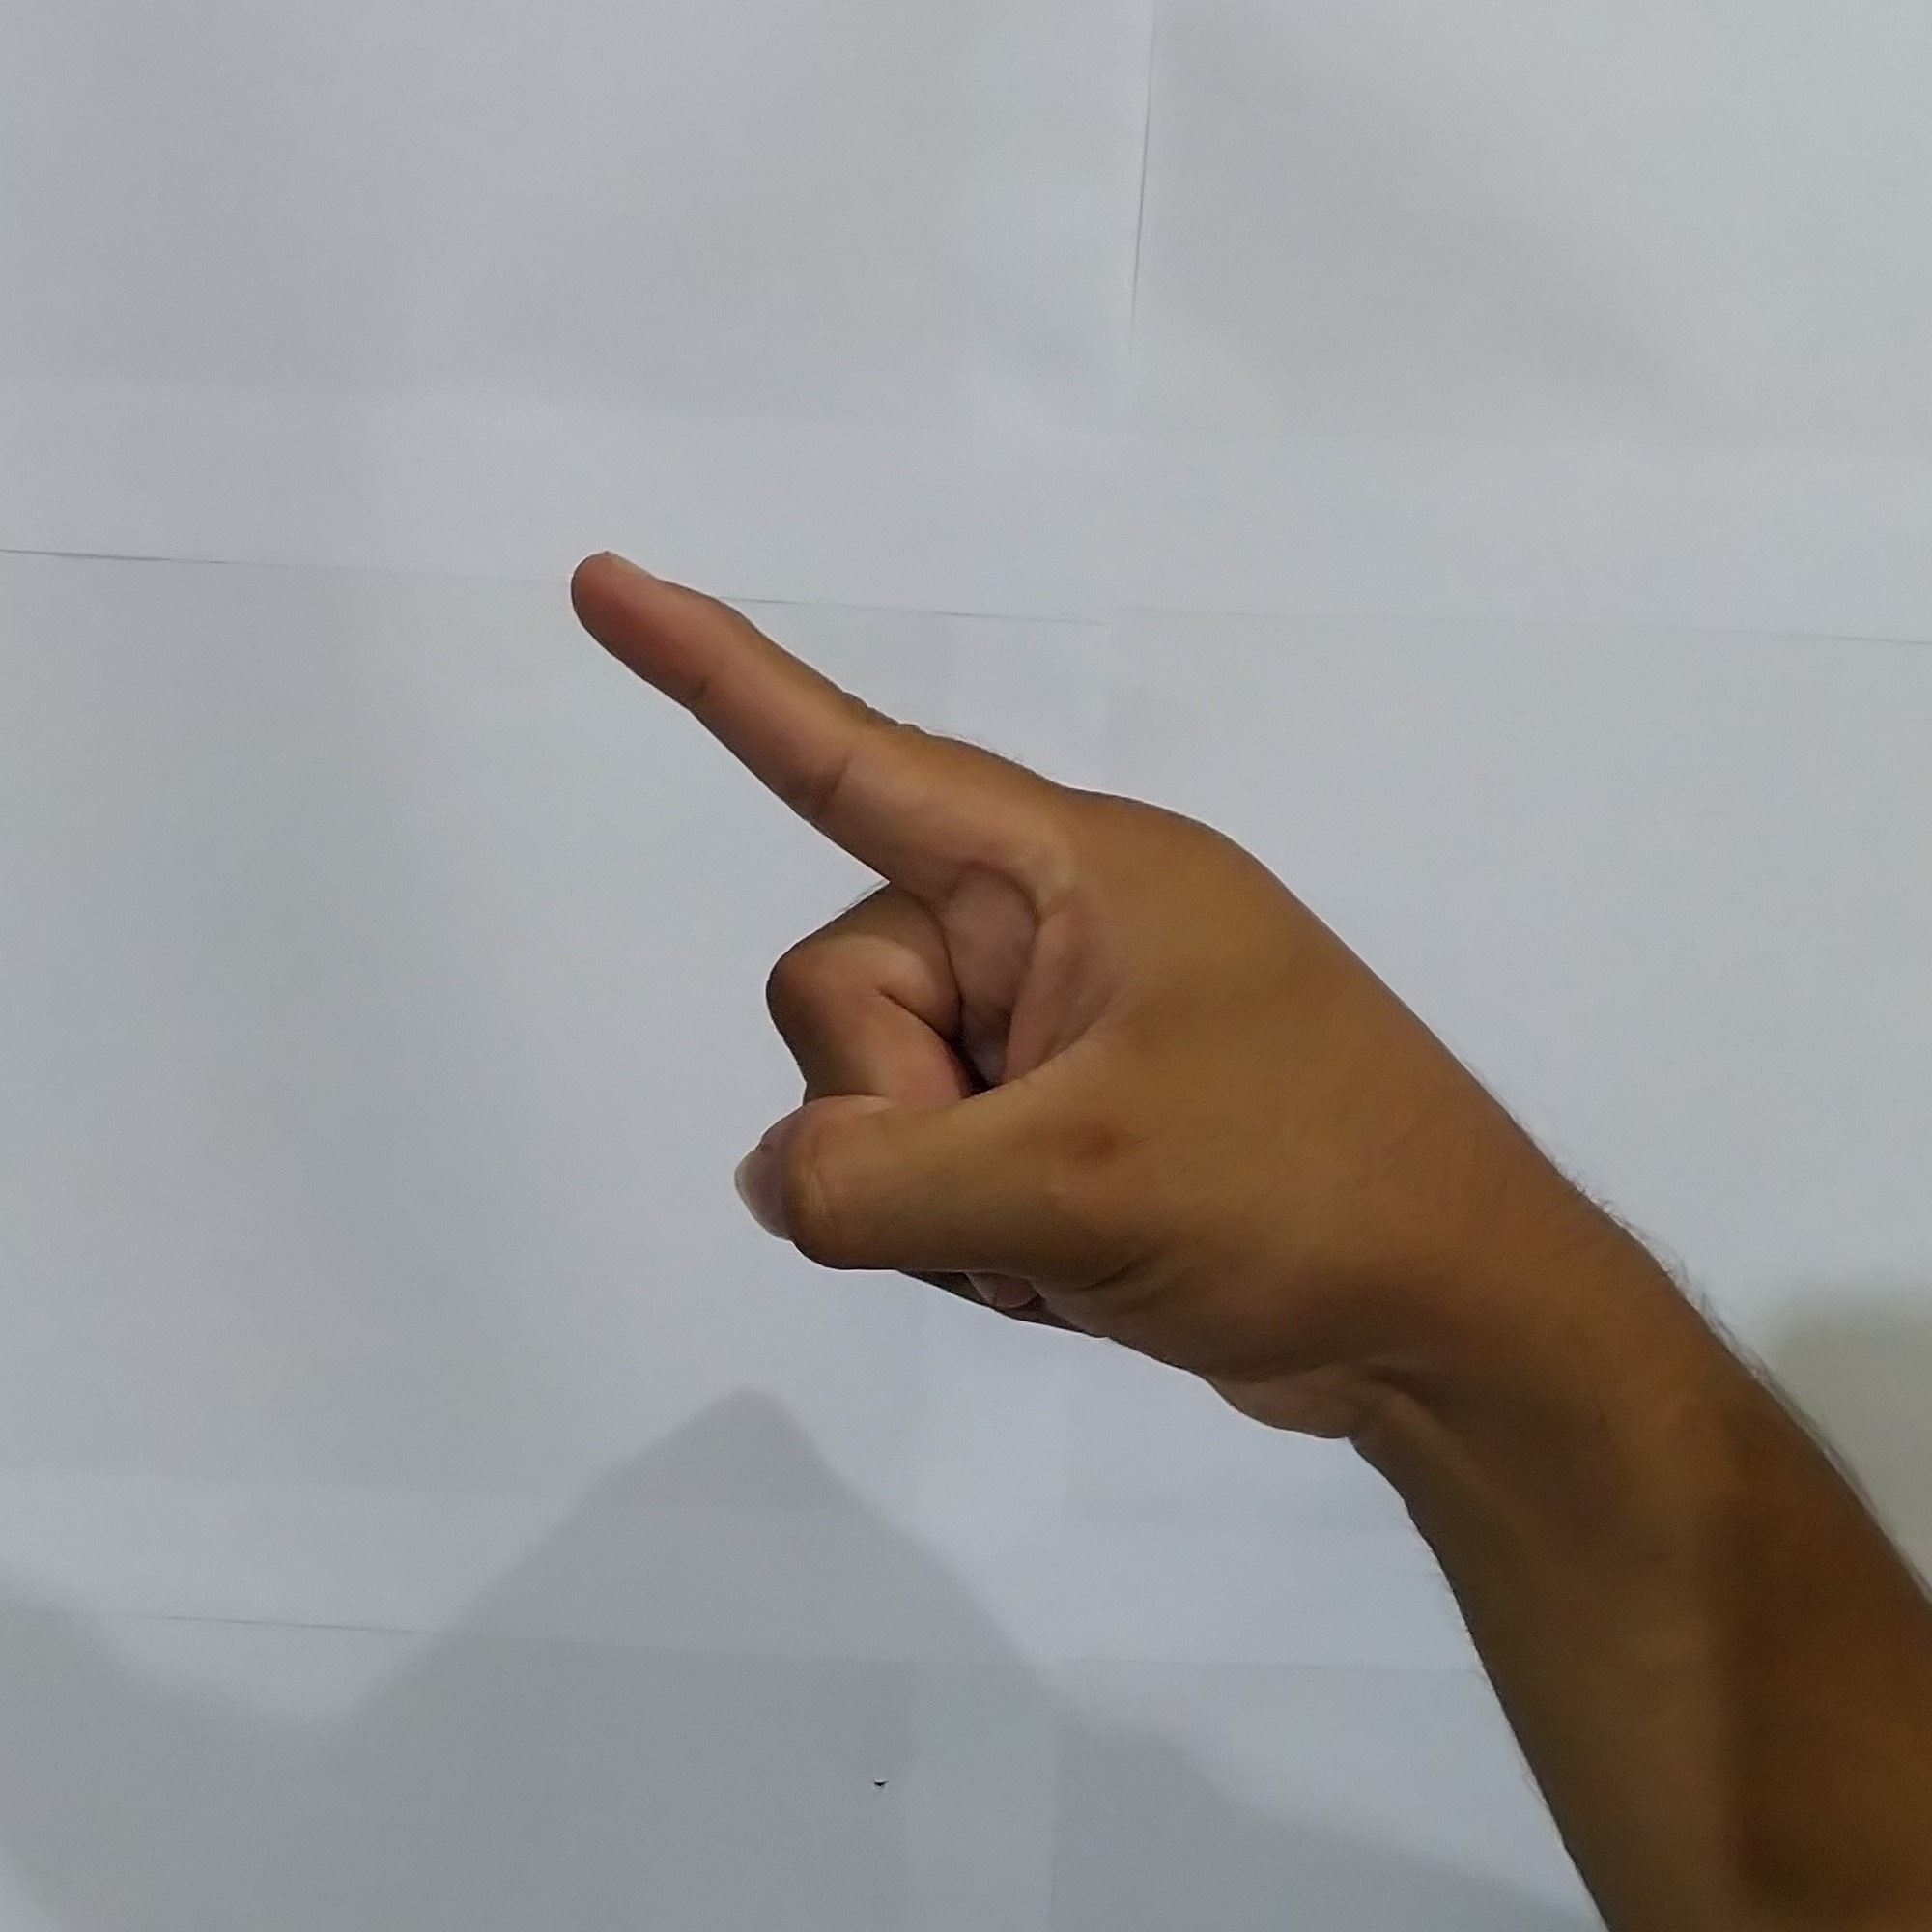Z: (533, 520, 1640, 1451)
